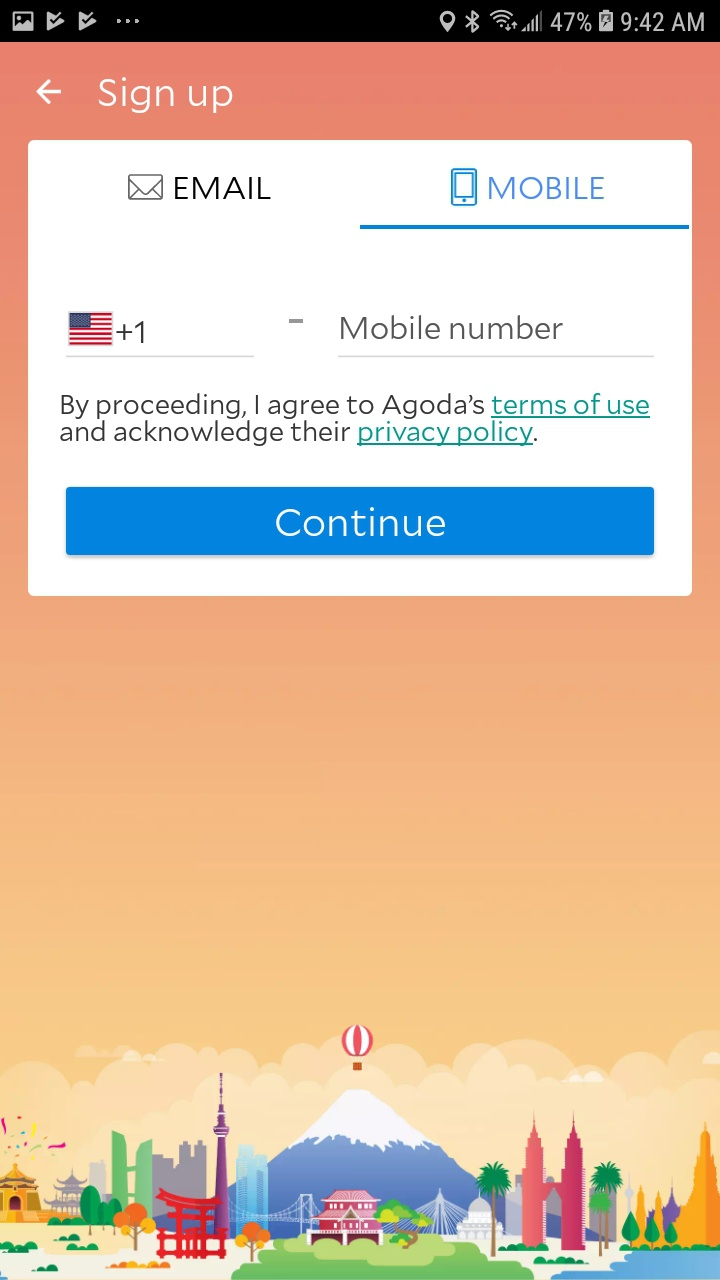BackgroundImage: (1, 43, 720, 1280)
EditText: (337, 315, 654, 359), (67, 312, 256, 359)
Icon: (128, 174, 164, 201), (36, 80, 63, 106)
Image: (1, 1023, 720, 1280), (69, 312, 114, 346), (451, 168, 478, 207)
Text: (61, 393, 651, 447), (340, 316, 563, 341), (98, 77, 233, 115), (489, 177, 605, 201), (175, 177, 272, 201), (116, 321, 145, 344)
TextButton: (66, 487, 654, 556)
UpperTaskBar: (1, 1, 720, 43)
